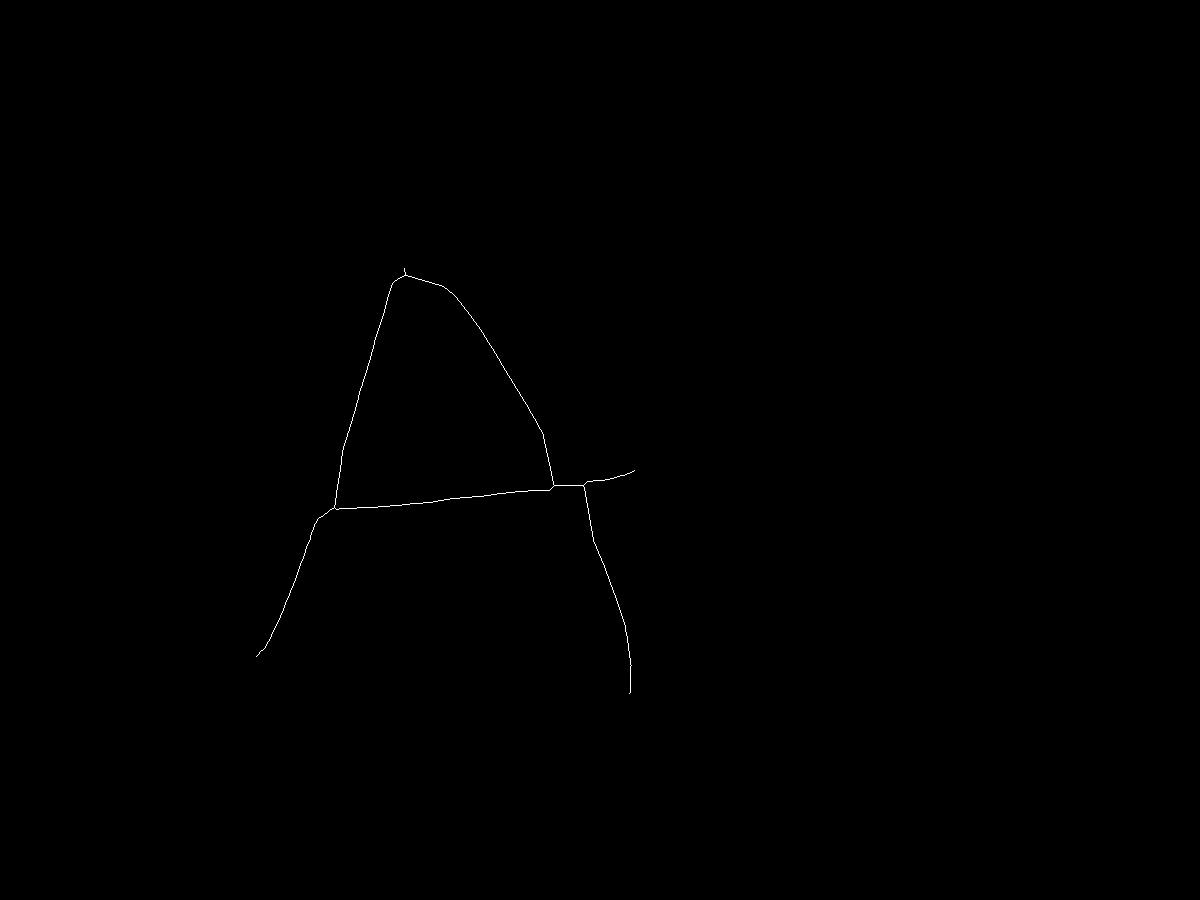dian1: (401, 272, 415, 286)
dian2: (327, 501, 342, 516)
dian3: (249, 647, 267, 665)
dian4: (572, 479, 590, 497)
dian5: (624, 682, 639, 697)
